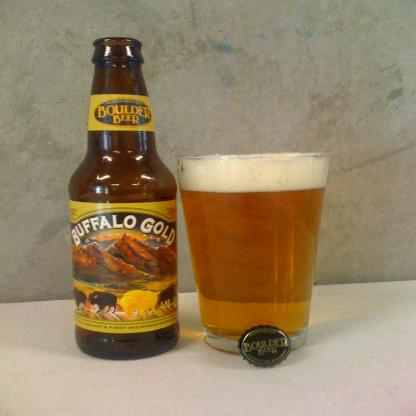drinking: (68, 37, 178, 361), (178, 153, 331, 356)
